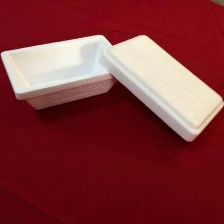foam_box: (96, 29, 224, 145), (0, 29, 120, 114)
